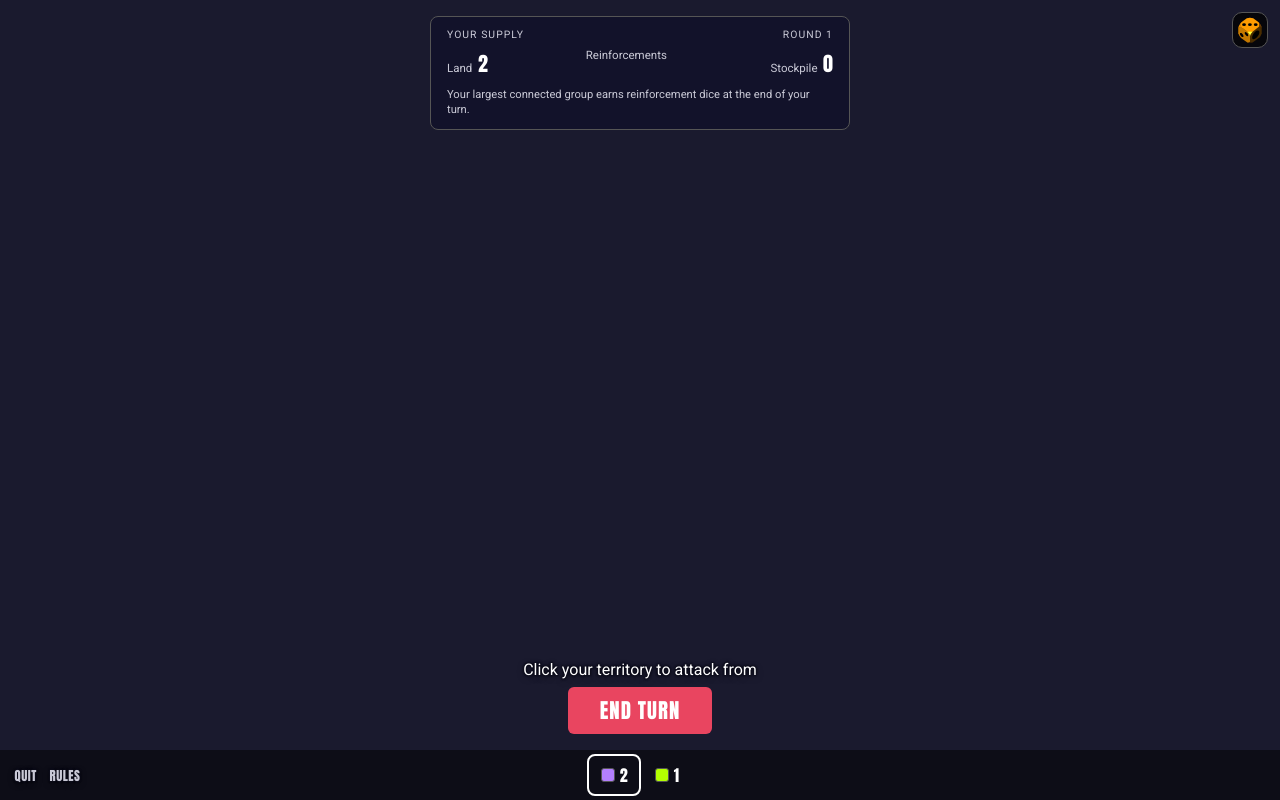
Test: App playing-screen tab order (#211) › still enters the board from RULES with the settings dropdown open
Click the button named "Settings".
click(1250, 30)  # box [1232,12,1268,48]
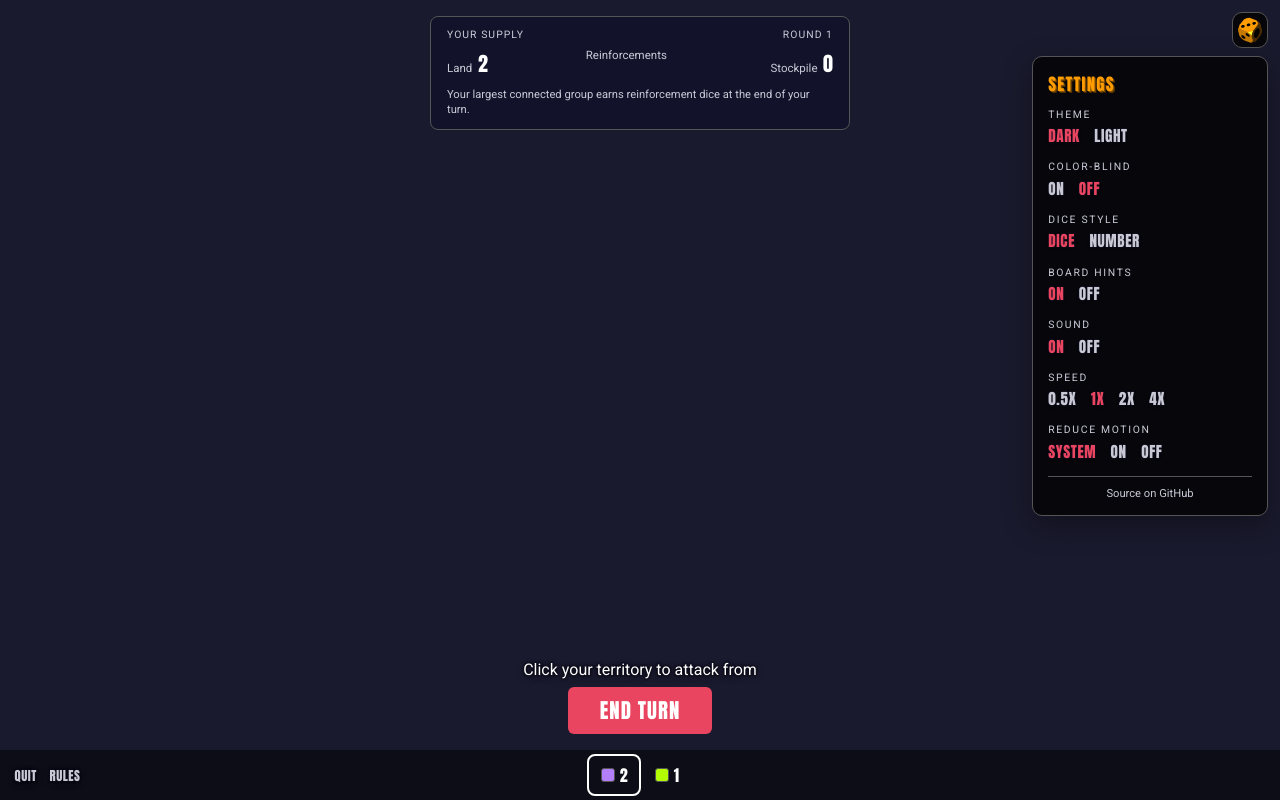
Result: the link "Source on GitHub" is shown at [1106,486,1194,500]
